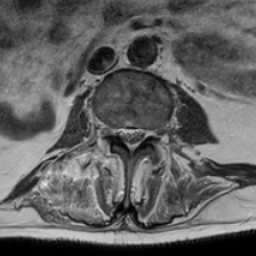CCS_normal: (126, 120, 136, 159)
LFS_stenosis: (146, 123, 154, 144)
LLS_normal: (137, 122, 144, 152)
RFS_stenosis: (111, 120, 119, 144)
RLS_normal: (119, 122, 126, 146)
